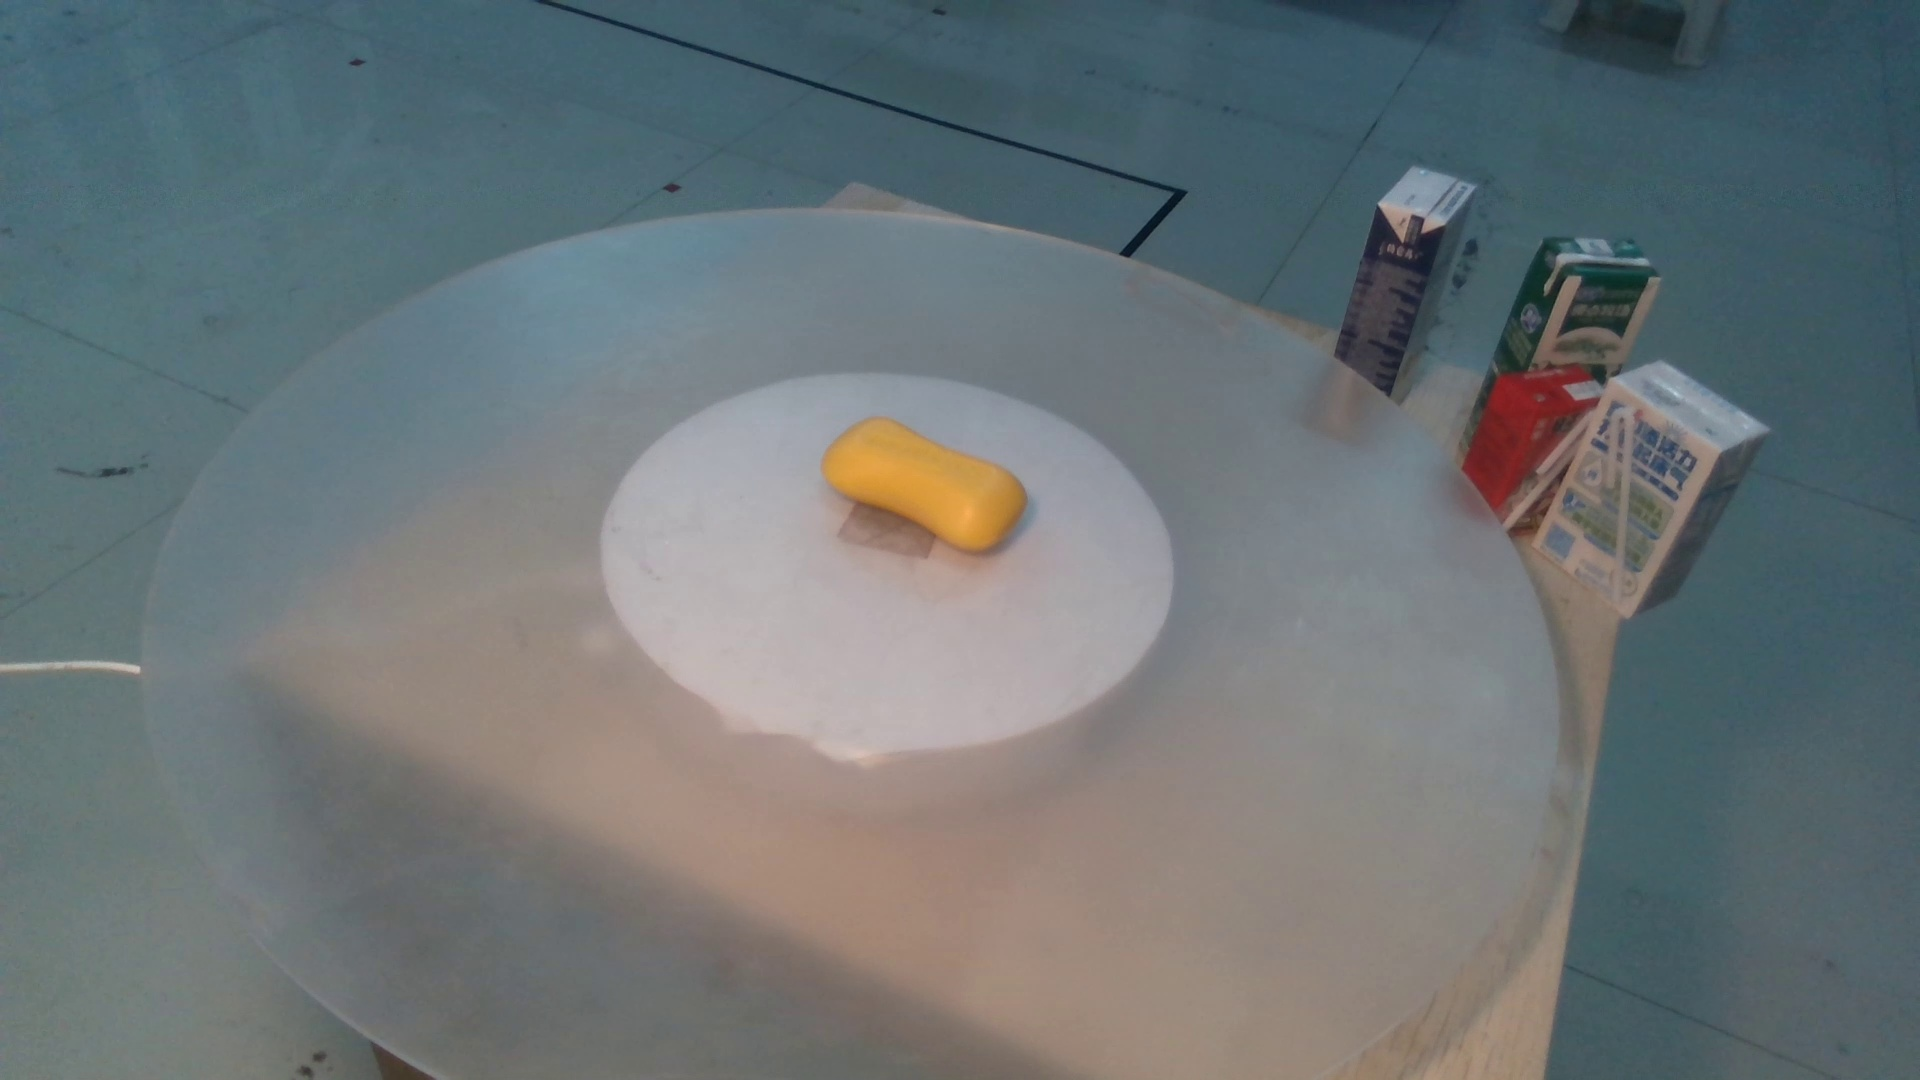CA003_1: (796, 409, 1071, 572)
